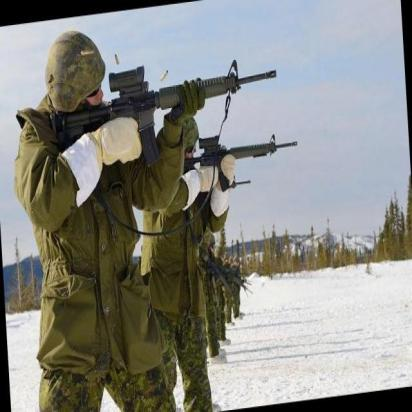Gun: (51, 50, 279, 158), (185, 120, 304, 188)
